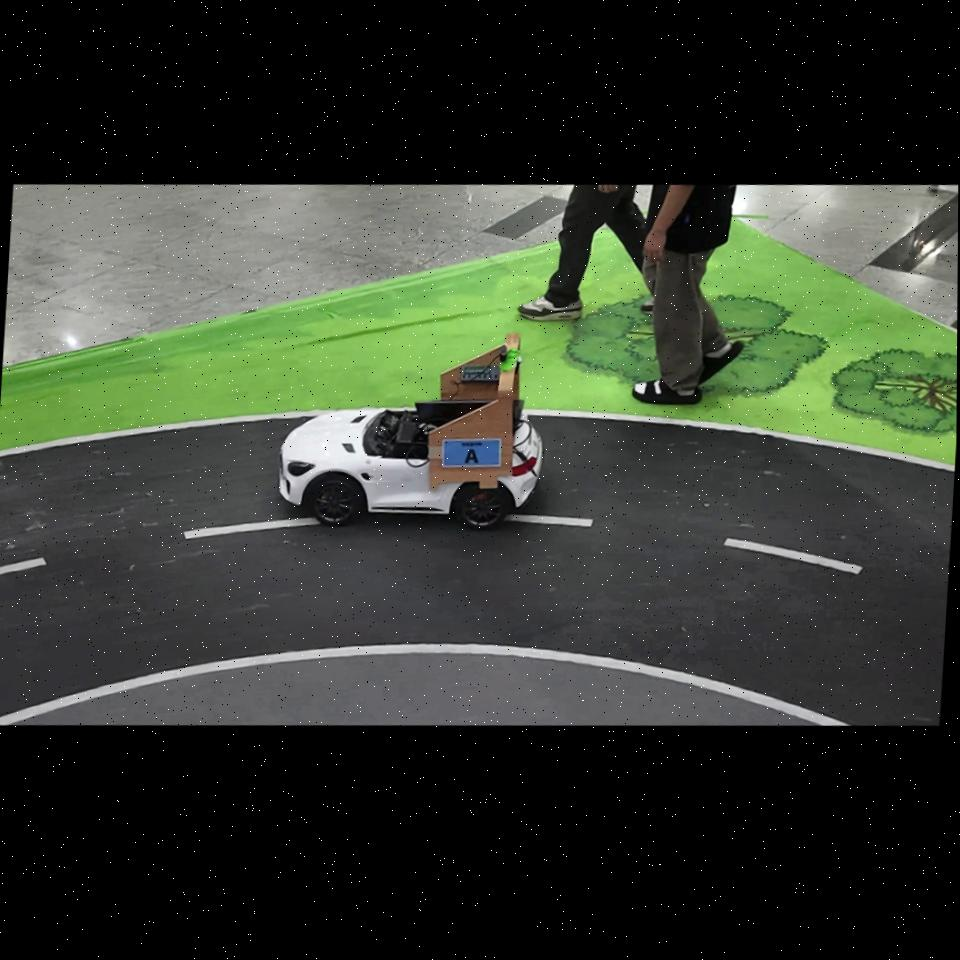broken_line: (723, 538, 863, 574), (184, 518, 319, 539), (507, 514, 593, 527), (0, 558, 47, 576)
